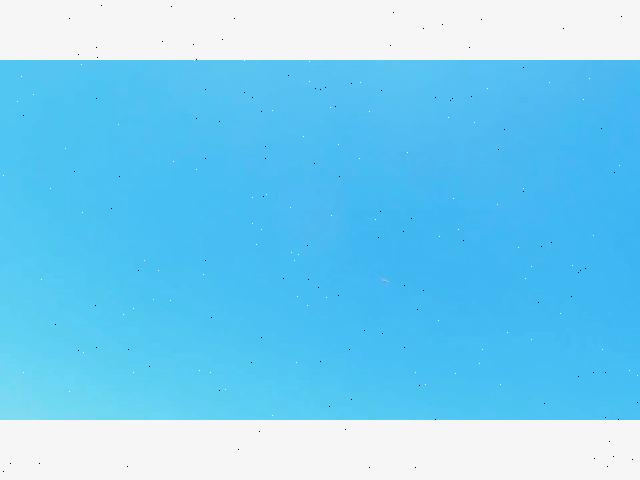Anti-Drone: (366, 271, 404, 290)
